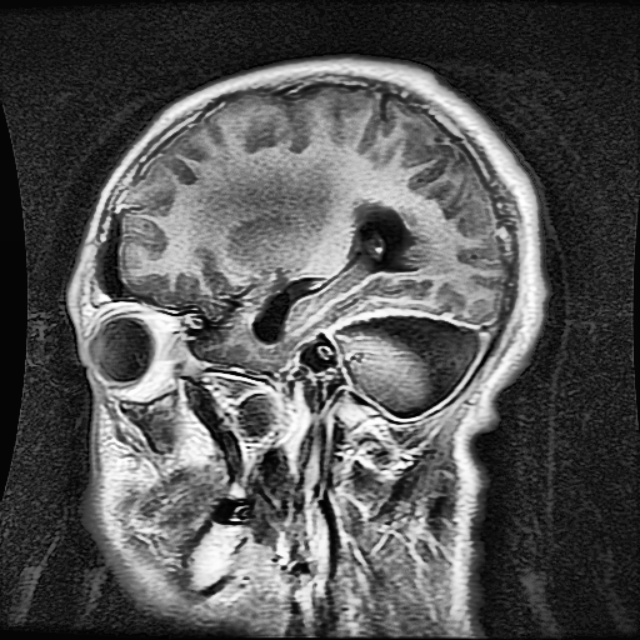Meningioma: (340, 313, 480, 419)
